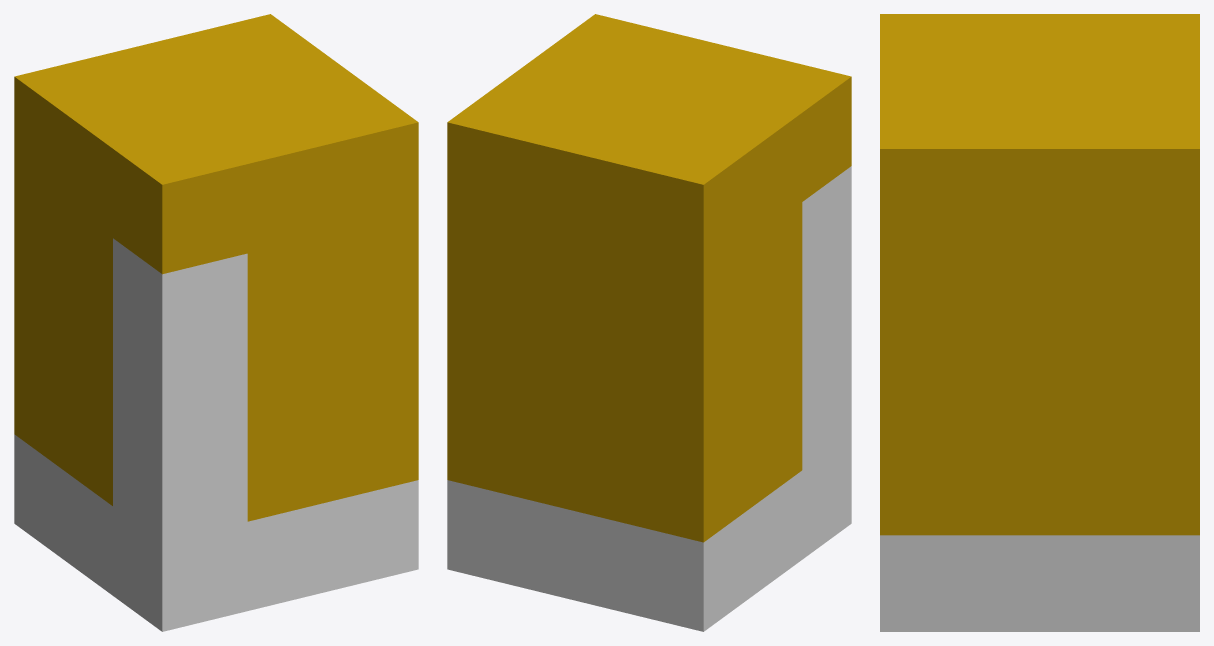
File: dog_leg.fbx
3 renders of one model, left to right at view 1: azimuth 30°, elevation 25°; view 2: azimuth 150°, elevation 25°; view 3: azimuth 270°, elevation 25°, orthographic. The views are drawn at different scales.
Visible parts, largest first — view 1: dog_leg; view 2: dog_leg; view 3: dog_leg.
Part boxes in pixels (left/top/right/bottom): dog_leg: left=14, top=14, right=418, bottom=631; dog_leg: left=447, top=14, right=851, bottom=631; dog_leg: left=880, top=14, right=1199, bottom=631.
Size of the model in its own units: 0.3 by 0.5 by 0.3.
